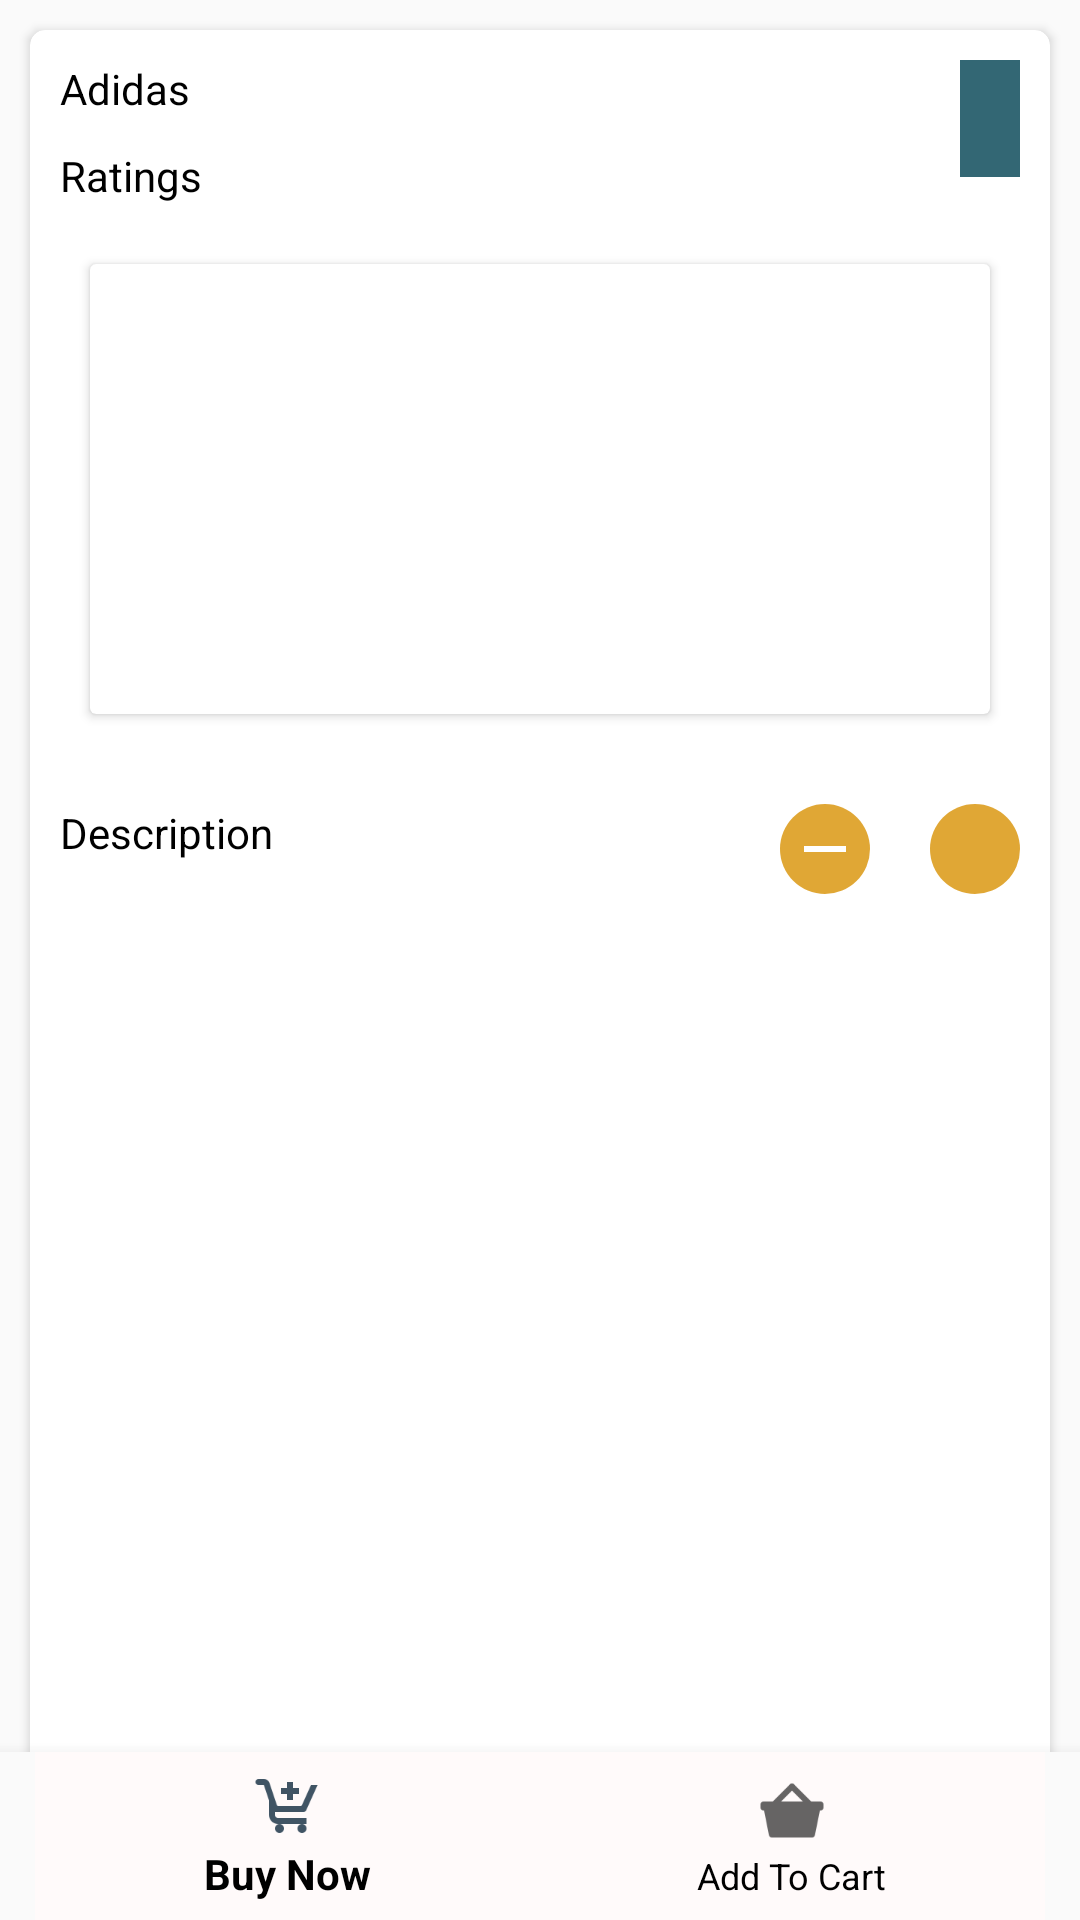

Icon bounding boxes for this 1080w x 1920h phone screenshot, format (x1,y1,x2,y2):
minus: (780,804,870,894)
